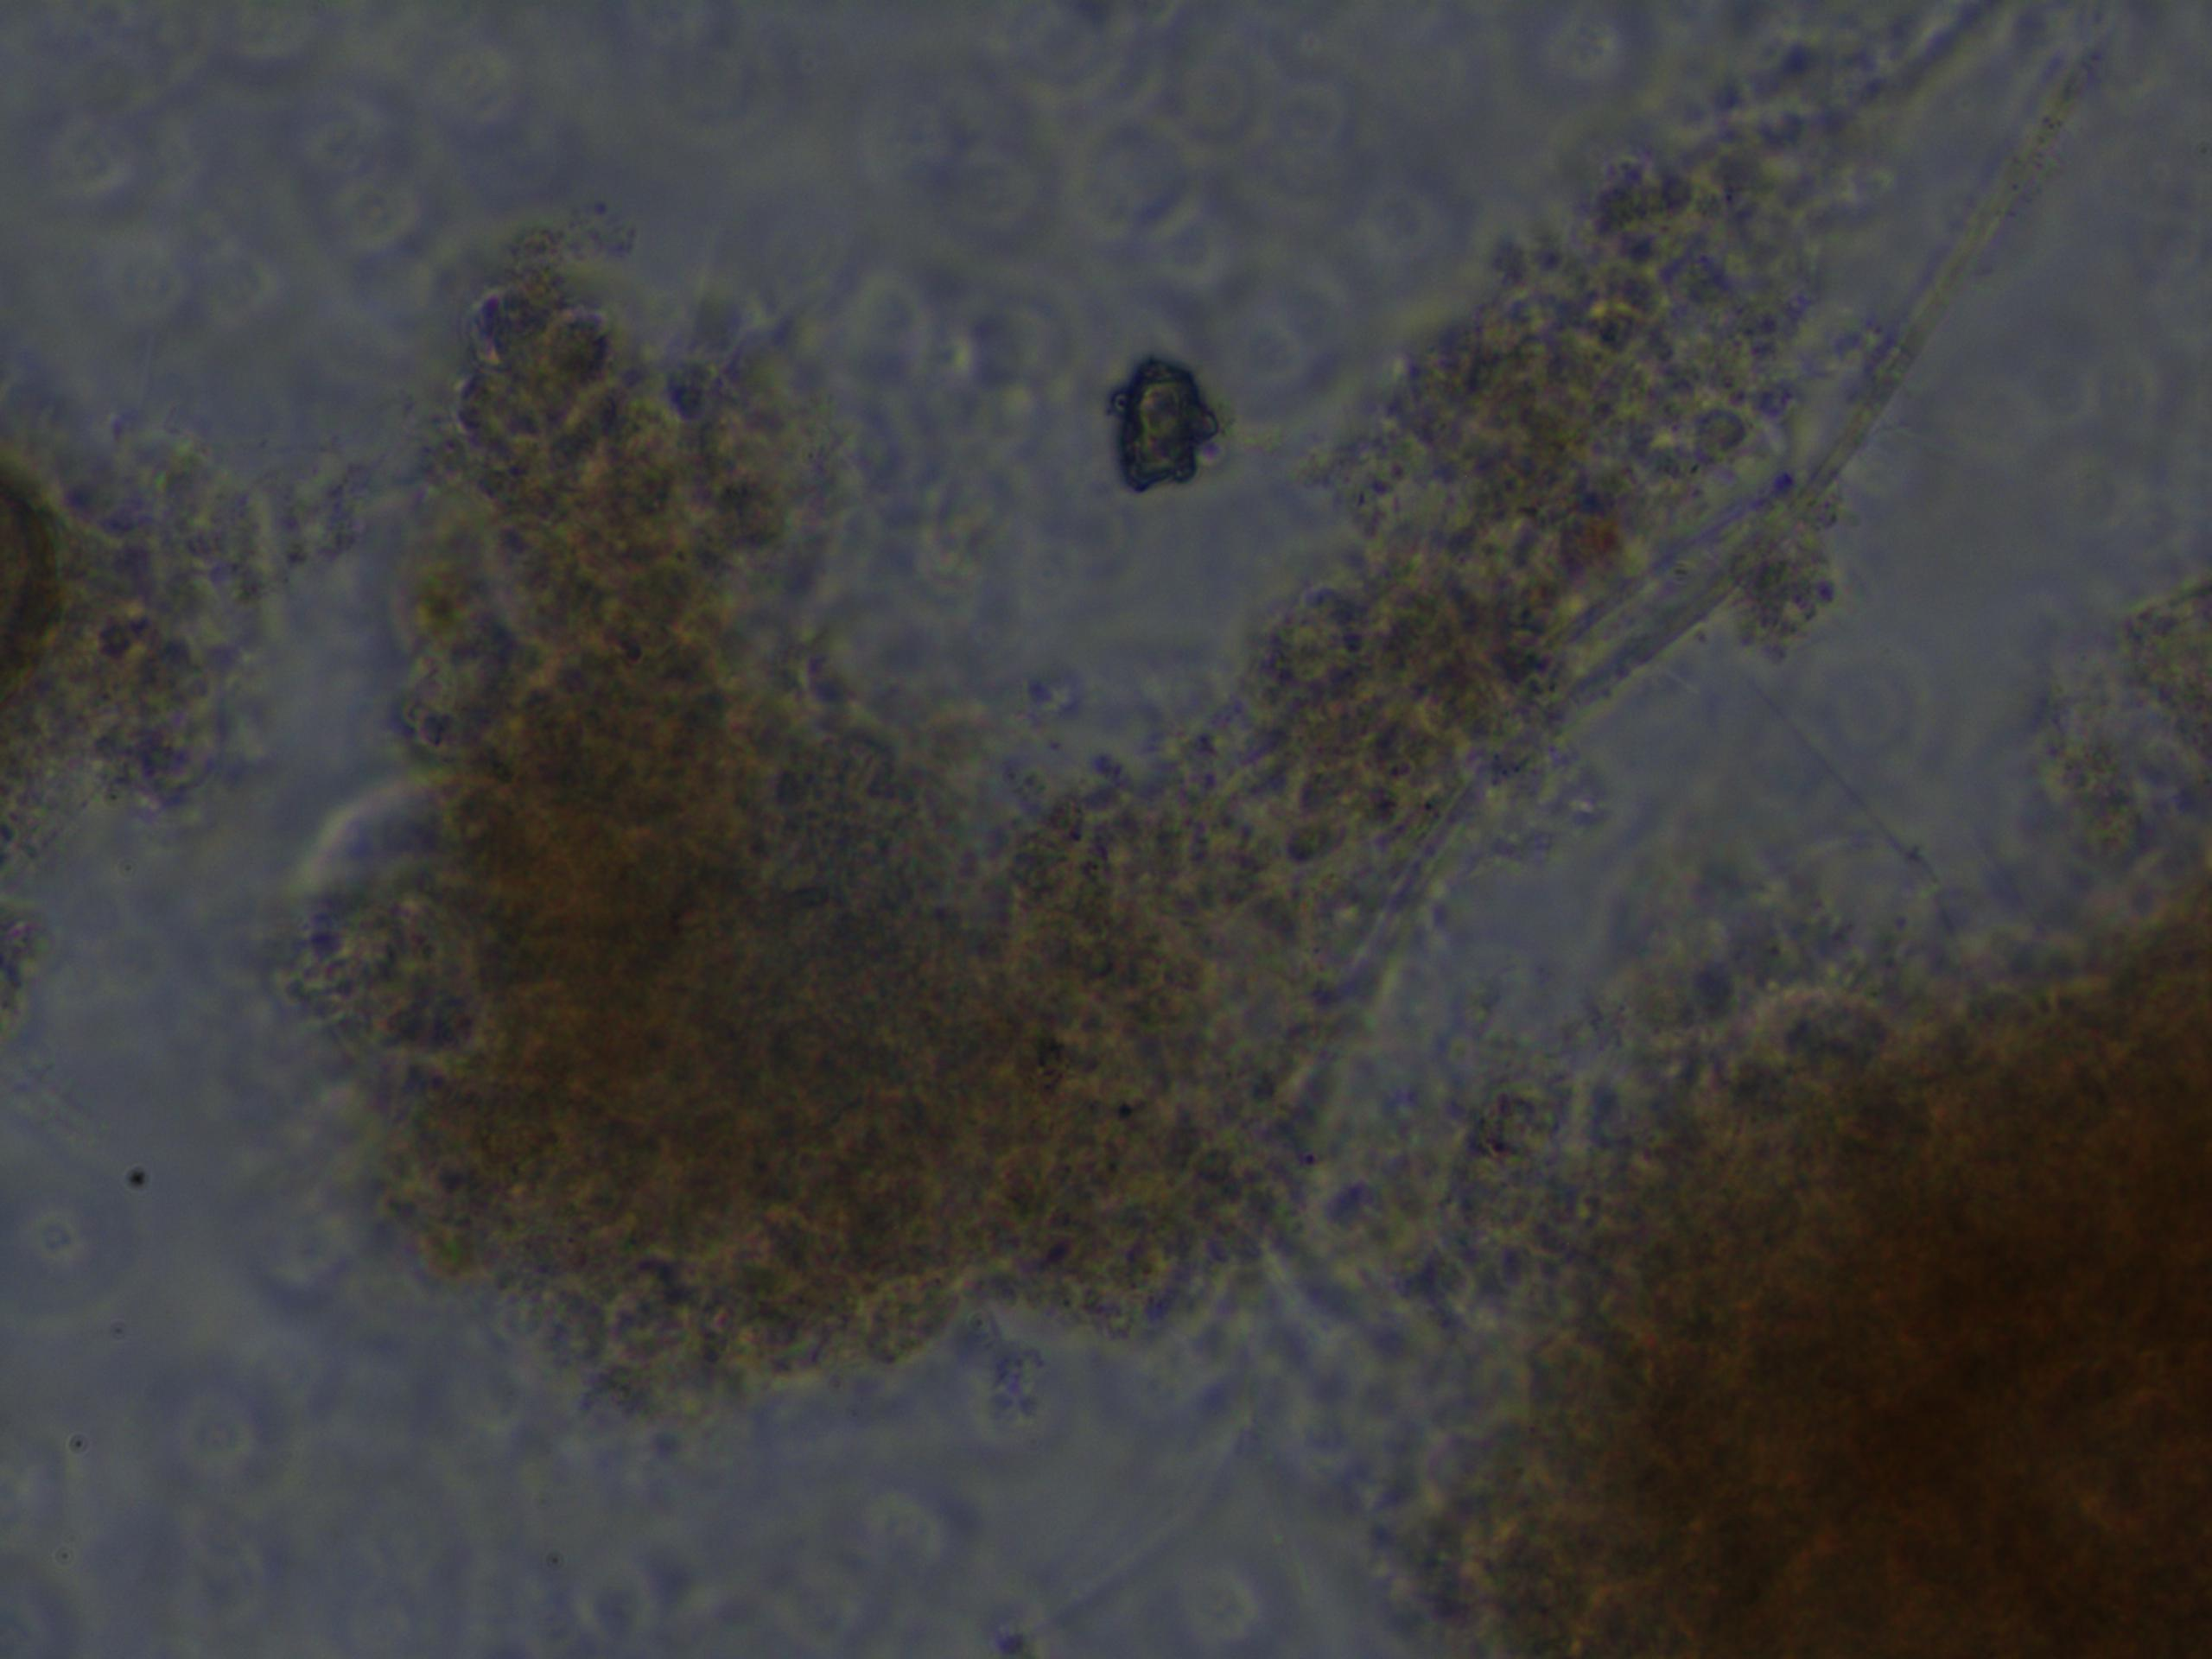filament: (1308, 0, 2099, 1279)
